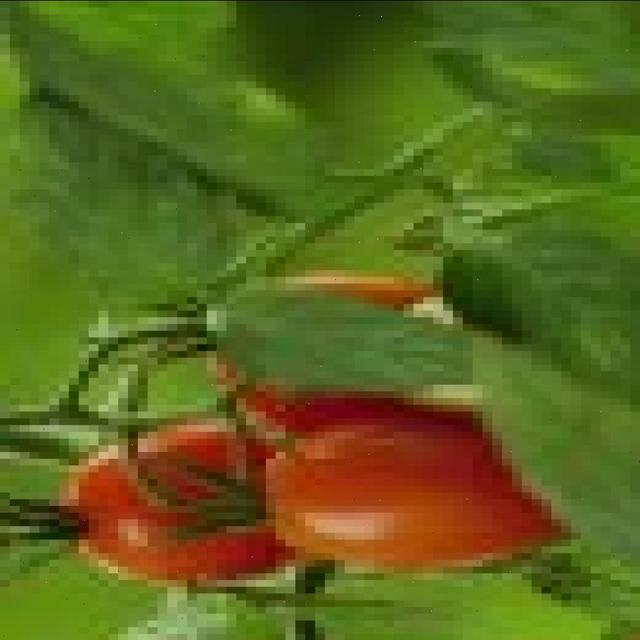Healthy Fruit: (122, 105, 269, 342)
